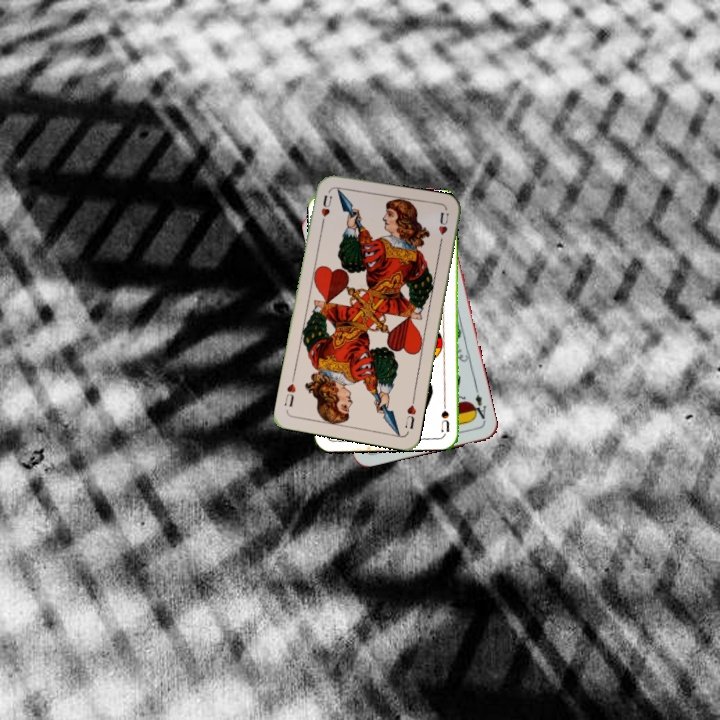EA: (468, 384, 489, 425)
HU: (401, 394, 419, 432), (317, 191, 335, 219)
SU: (437, 393, 452, 434)
